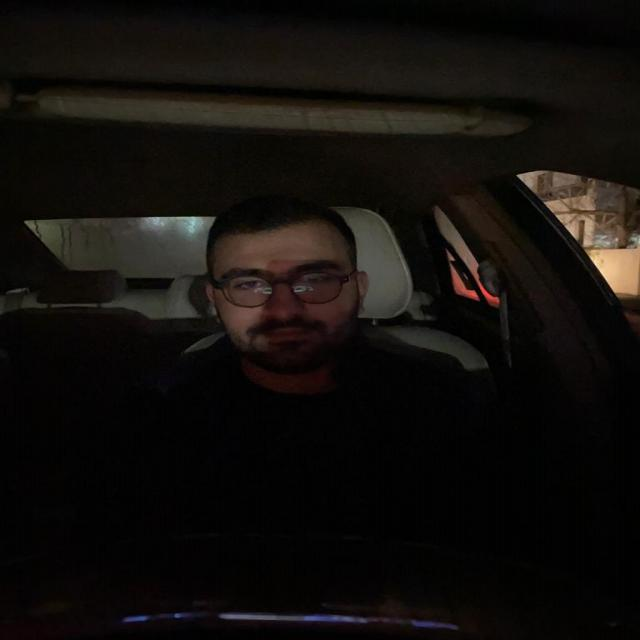person: (200, 195, 380, 371)
